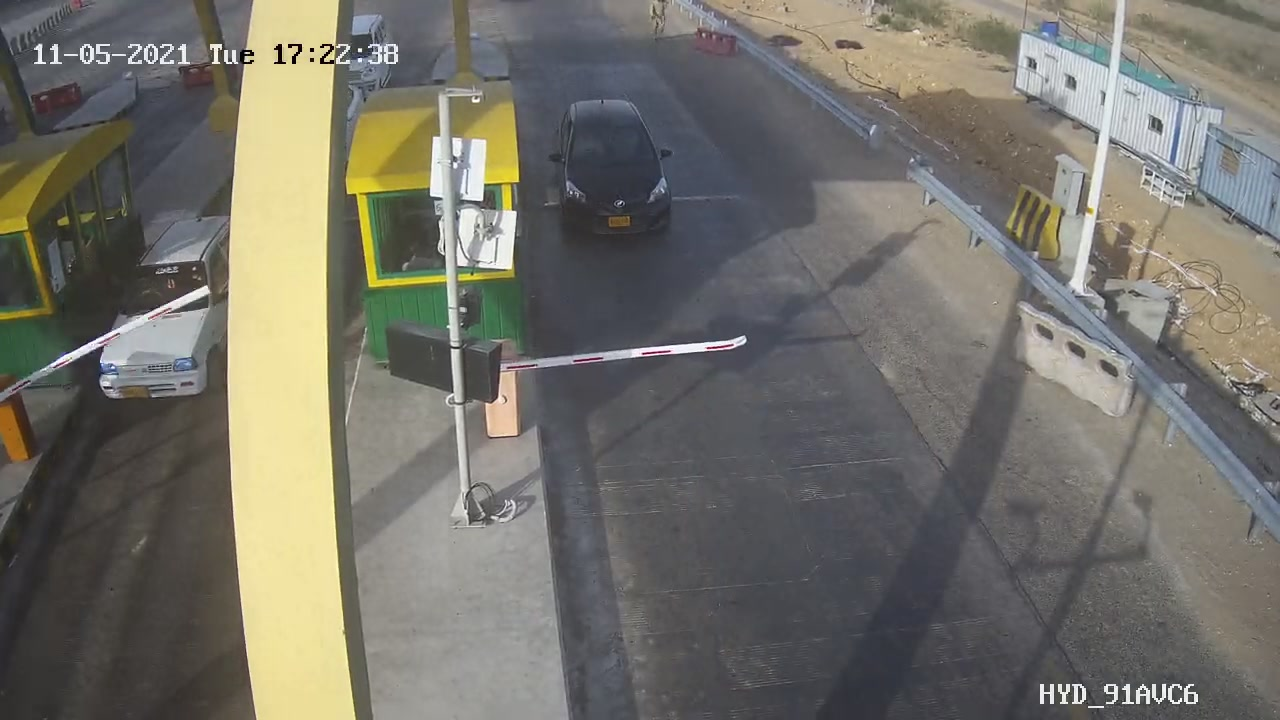F1: (535, 83, 694, 256)
